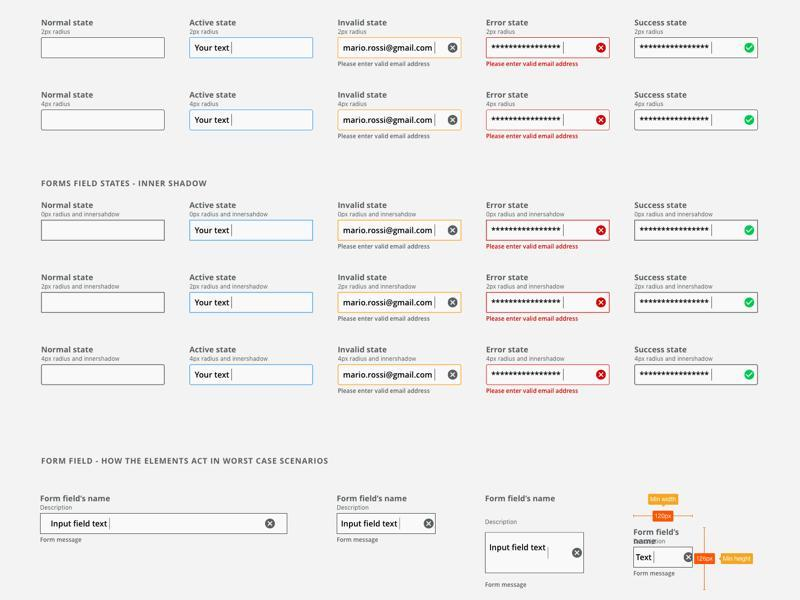input: (41, 516, 288, 535), (486, 533, 584, 573), (43, 37, 166, 60), (43, 111, 166, 133), (42, 365, 165, 387), (339, 38, 462, 60), (636, 109, 758, 131), (42, 293, 167, 314), (635, 38, 760, 59), (190, 111, 314, 132), (487, 38, 611, 59), (487, 294, 611, 315), (486, 220, 610, 241), (635, 364, 759, 385), (191, 293, 315, 313), (190, 366, 314, 386), (339, 111, 463, 131), (338, 221, 462, 241), (339, 294, 463, 314), (191, 220, 314, 240), (487, 112, 610, 132), (635, 221, 758, 241), (43, 221, 165, 241), (191, 39, 314, 58), (340, 366, 463, 385), (636, 294, 758, 313), (487, 367, 610, 385), (338, 514, 436, 536), (635, 549, 694, 569)
label: (188, 343, 270, 363), (190, 272, 270, 292), (337, 199, 419, 218), (633, 345, 715, 364), (337, 272, 419, 291), (41, 272, 120, 291), (486, 272, 568, 290), (634, 202, 719, 219), (635, 273, 715, 291), (487, 345, 567, 363), (486, 200, 568, 217), (40, 345, 121, 362), (189, 202, 270, 218), (337, 346, 418, 362), (40, 494, 112, 512), (41, 202, 123, 217), (335, 495, 408, 511), (40, 17, 98, 36), (189, 16, 238, 36), (635, 18, 688, 36), (634, 90, 687, 108), (337, 90, 390, 108), (189, 92, 240, 109), (42, 92, 96, 108), (485, 20, 532, 37), (338, 21, 391, 36), (632, 530, 681, 546), (485, 92, 531, 108), (484, 496, 557, 505), (486, 519, 520, 527)
